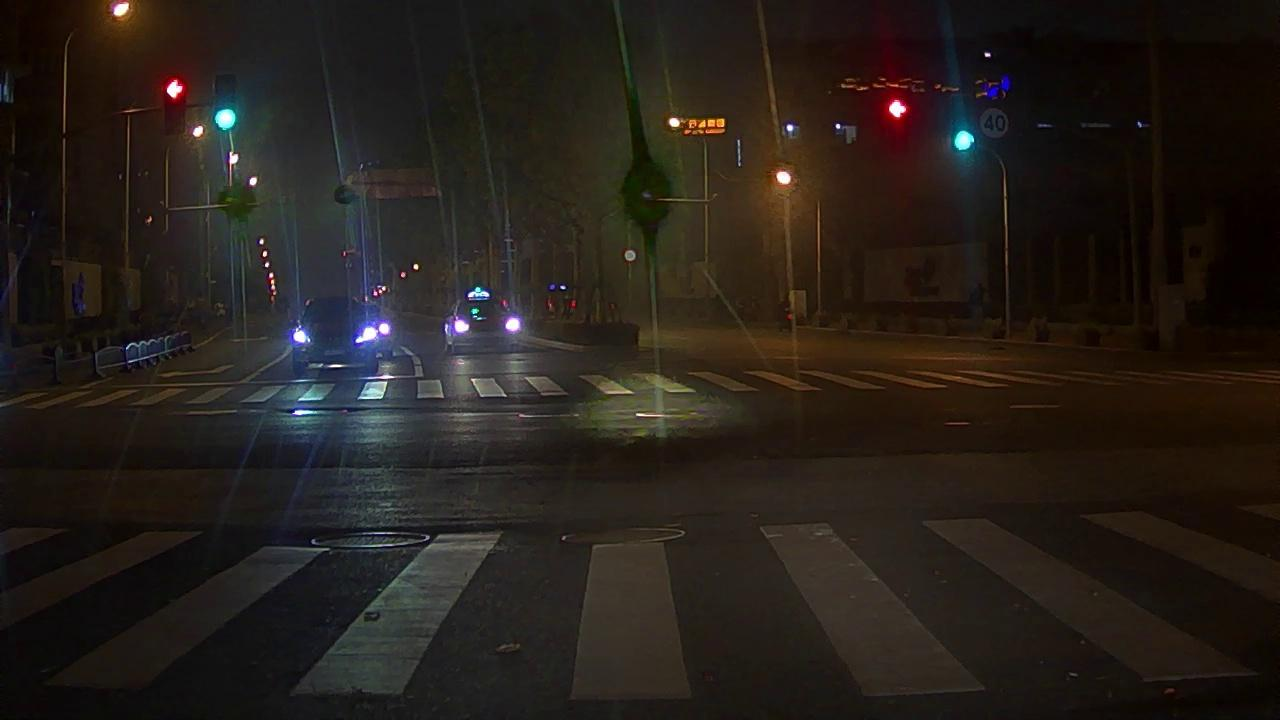traffic_light: (164, 77, 186, 131), (888, 99, 908, 151), (216, 76, 235, 130), (955, 131, 975, 150)
